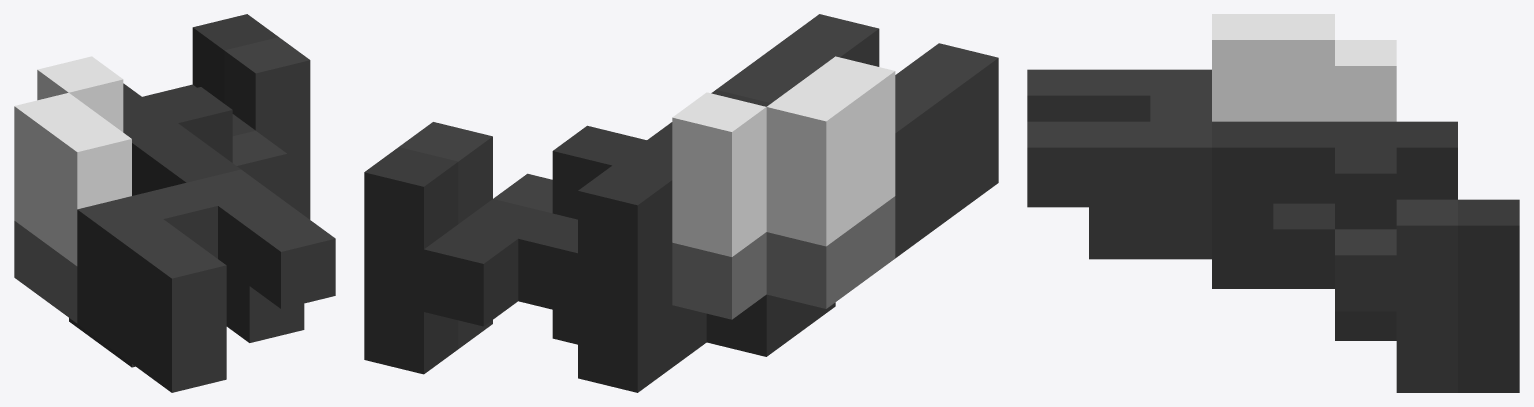
Rendered from 210503berobotv2-1.obj.
3 renders of one model, left to right at view 1: azimuth 30°, elevation 25°; view 2: azimuth 150°, elevation 25°; view 3: azimuth 270°, elevation 25°, orthographic. The views are drawn at different scales.
Size of the model in its own units: 0.6 by 0.4 by 0.8.
1 material, 1 textured.
